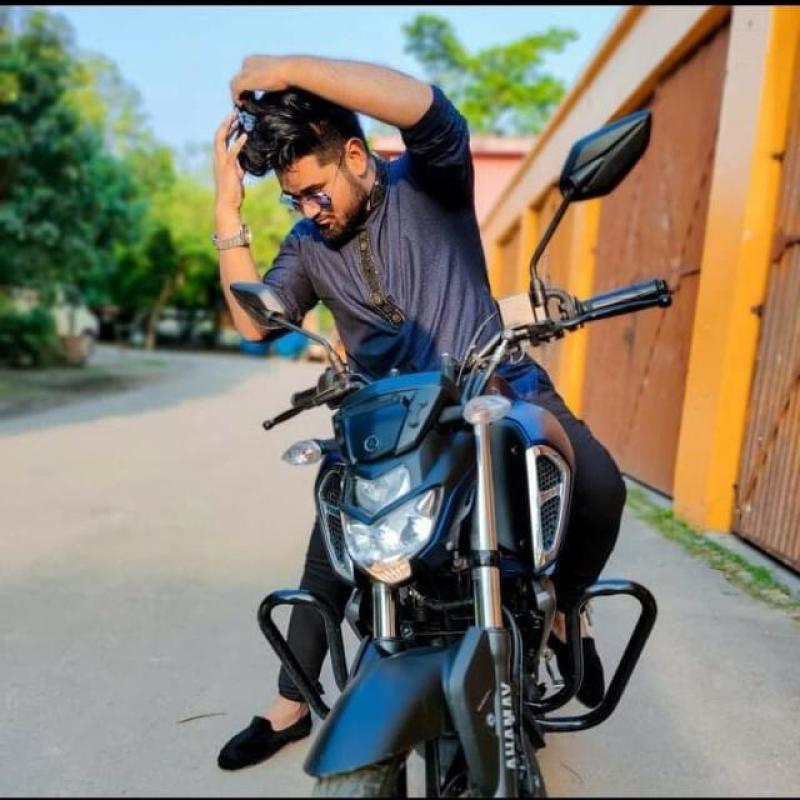nohelmet: (222, 89, 380, 234)
